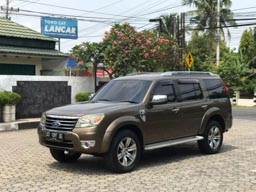plat: (41, 129, 64, 141)
